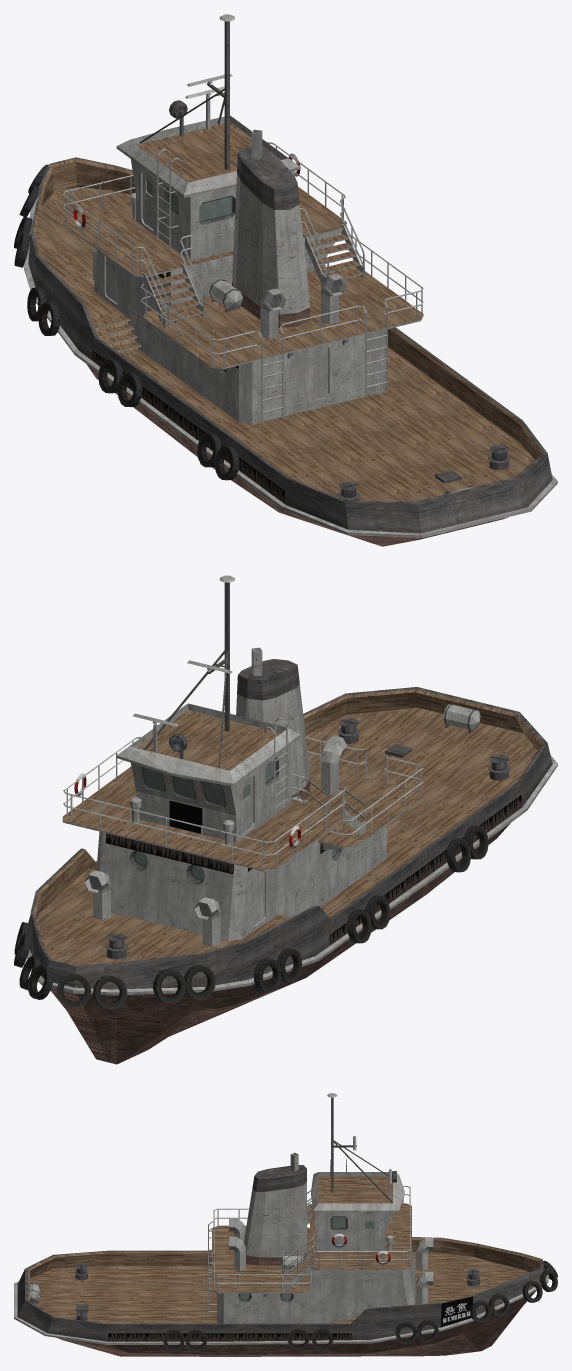
File: boat.glb
3 renders of one model, top to bottom at view 1: azimuth 30°, elevation 25°; view 2: azimuth 150°, elevation 25°; view 3: azimuth 270°, elevation 25°, orthographic. The views are drawn at different scales.
Parts seen in each view (by area): view 1: Object_deck_woo.jpg, Object_top_body.jpg, Object_tug_body.jpg, Object_tug_mix.jpg, Object_bottom_b.jpg, Object_tug_deca.jpg, Object_tug_glas.jpg; view 2: Object_deck_woo.jpg, Object_top_body.jpg, Object_tug_body.jpg, Object_bottom_b.jpg, Object_tug_mix.jpg, Object_tug_deca.jpg, Object_tug_glas.jpg; view 3: Object_deck_woo.jpg, Object_top_body.jpg, Object_tug_body.jpg, Object_bottom_b.jpg, Object_tug_mix.jpg, Object_tug_deca.jpg, Object_tug_glas.jpg.
Part boxes in pixels (left/top/right/bottom): Object_deck_woo.jpg: left=33, top=122, right=543, bottom=501; Object_top_body.jpg: left=23, top=14, right=557, bottom=537; Object_tug_body.jpg: left=28, top=21, right=552, bottom=533; Object_tug_mix.jpg: left=14, top=153, right=348, bottom=480; Object_bottom_b.jpg: left=86, top=282, right=507, bottom=546; Object_tug_deca.jpg: left=93, top=272, right=284, bottom=503; Object_tug_glas.jpg: left=146, top=180, right=232, bottom=372; Object_deck_woo.jpg: left=33, top=689, right=543, bottom=989; Object_top_body.jpg: left=27, top=575, right=557, bottom=995; Object_tug_body.jpg: left=29, top=582, right=552, bottom=989; Object_bottom_b.jpg: left=50, top=777, right=510, bottom=1064; Object_tug_mix.jpg: left=14, top=736, right=488, bottom=1009; Object_tug_deca.jpg: left=105, top=795, right=521, bottom=945; Object_tug_glas.jpg: left=134, top=759, right=337, bottom=880; Object_deck_woo.jpg: left=28, top=1176, right=541, bottom=1323; Object_top_body.jpg: left=14, top=1093, right=548, bottom=1344; Object_tug_body.jpg: left=17, top=1097, right=545, bottom=1341; Object_bottom_b.jpg: left=56, top=1252, right=536, bottom=1356; Object_tug_mix.jpg: left=163, top=1212, right=557, bottom=1351; Object_tug_deca.jpg: left=108, top=1296, right=472, bottom=1341; Object_tug_glas.jpg: left=239, top=1217, right=374, bottom=1300.
Bounding box in the file's own units: 1 × 1.48 × 2.81.
7 materials, 7 textured.
